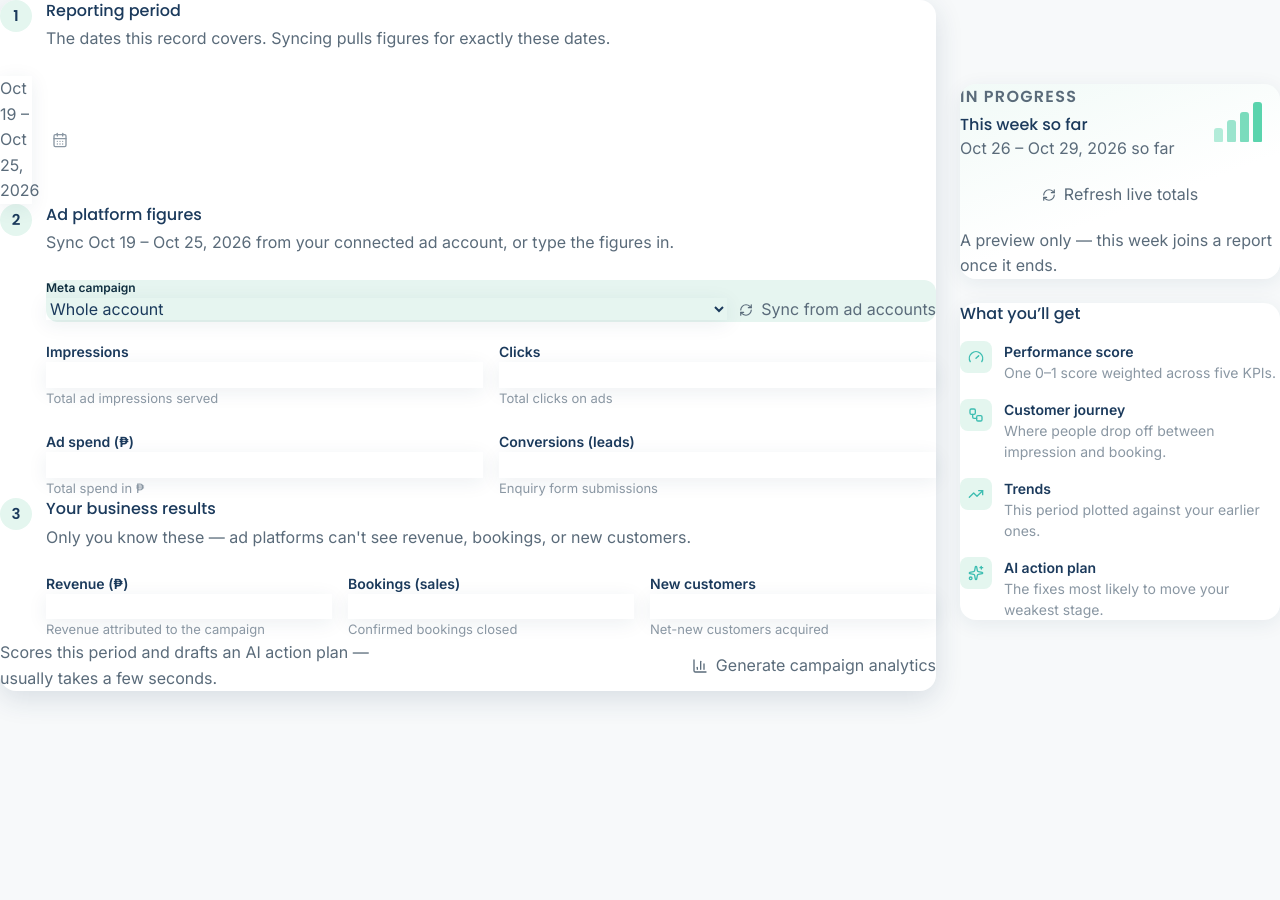
Test: IngestionForm ad sync › drops the synced badges when the period changes after a sync
The image size is (1280, 900).
Click the button "Sync from ad accounts" at point(838, 310), box [739,297,936,322]
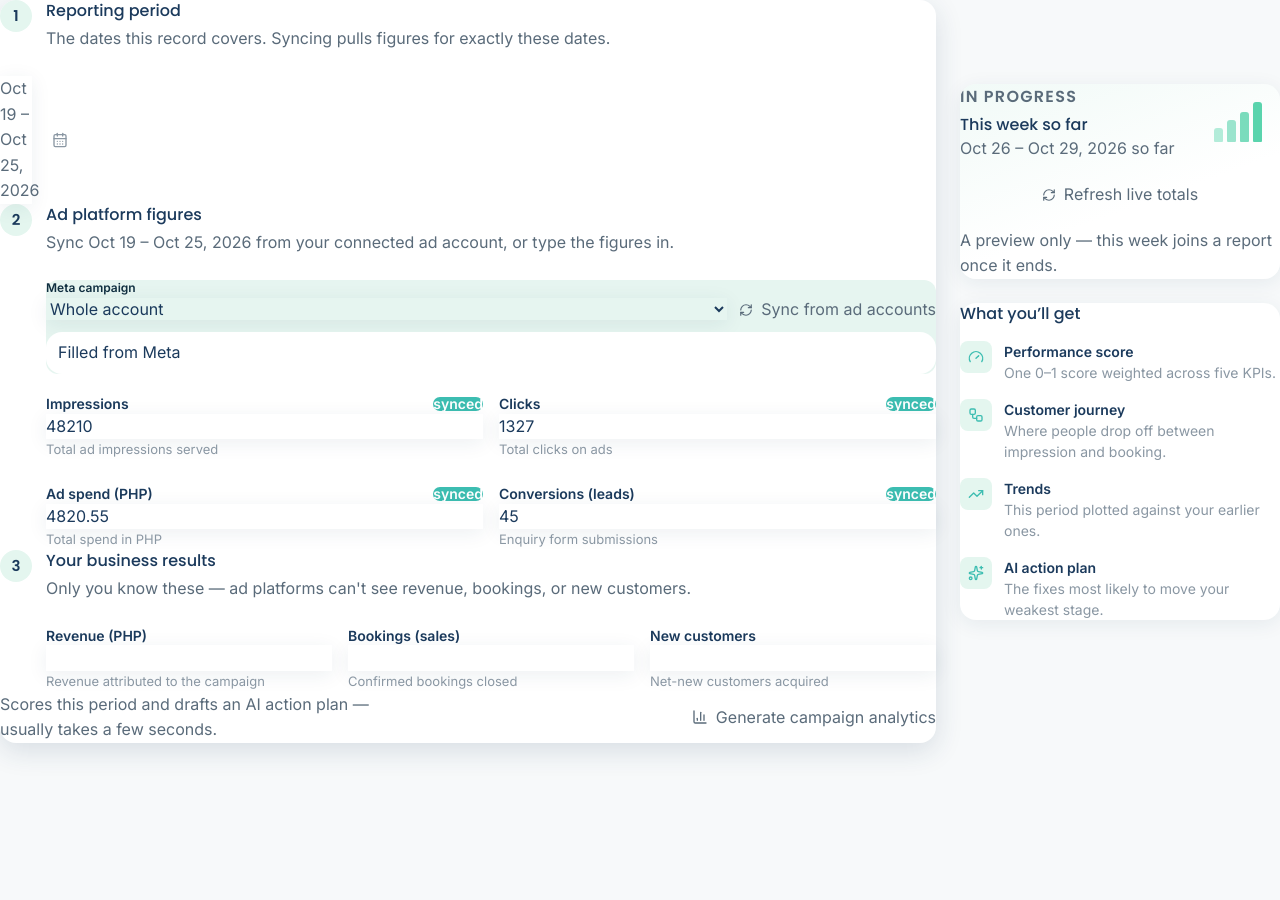
Now the label labelled "Impressions synced Total ad impressions served" is shown, box [46,394,483,460]
Click the button with aria-label "reporting period" at point(16, 140), box [0,76,32,204]
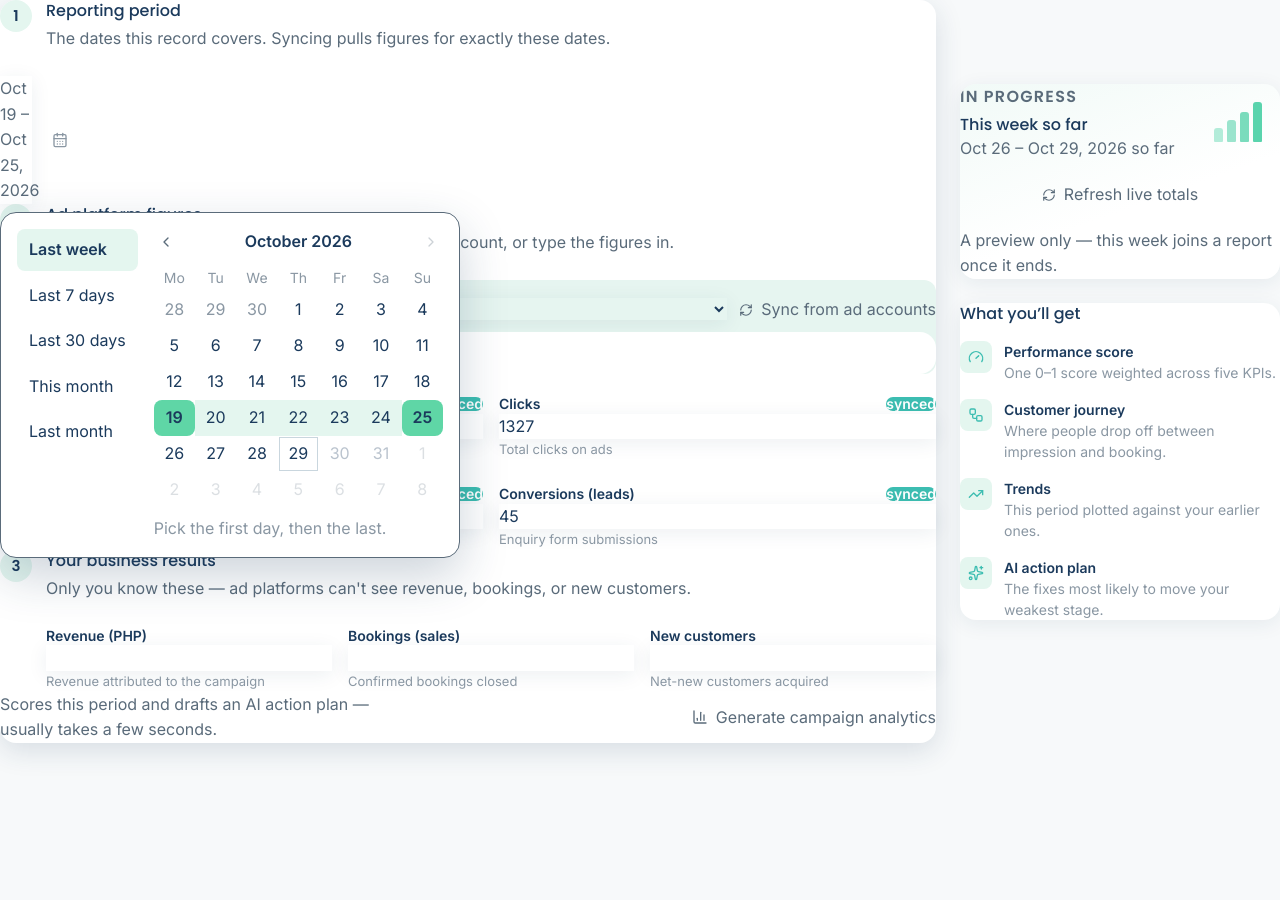
Click the button "Last 30 days" at point(77, 341), box [17,320,138,362]
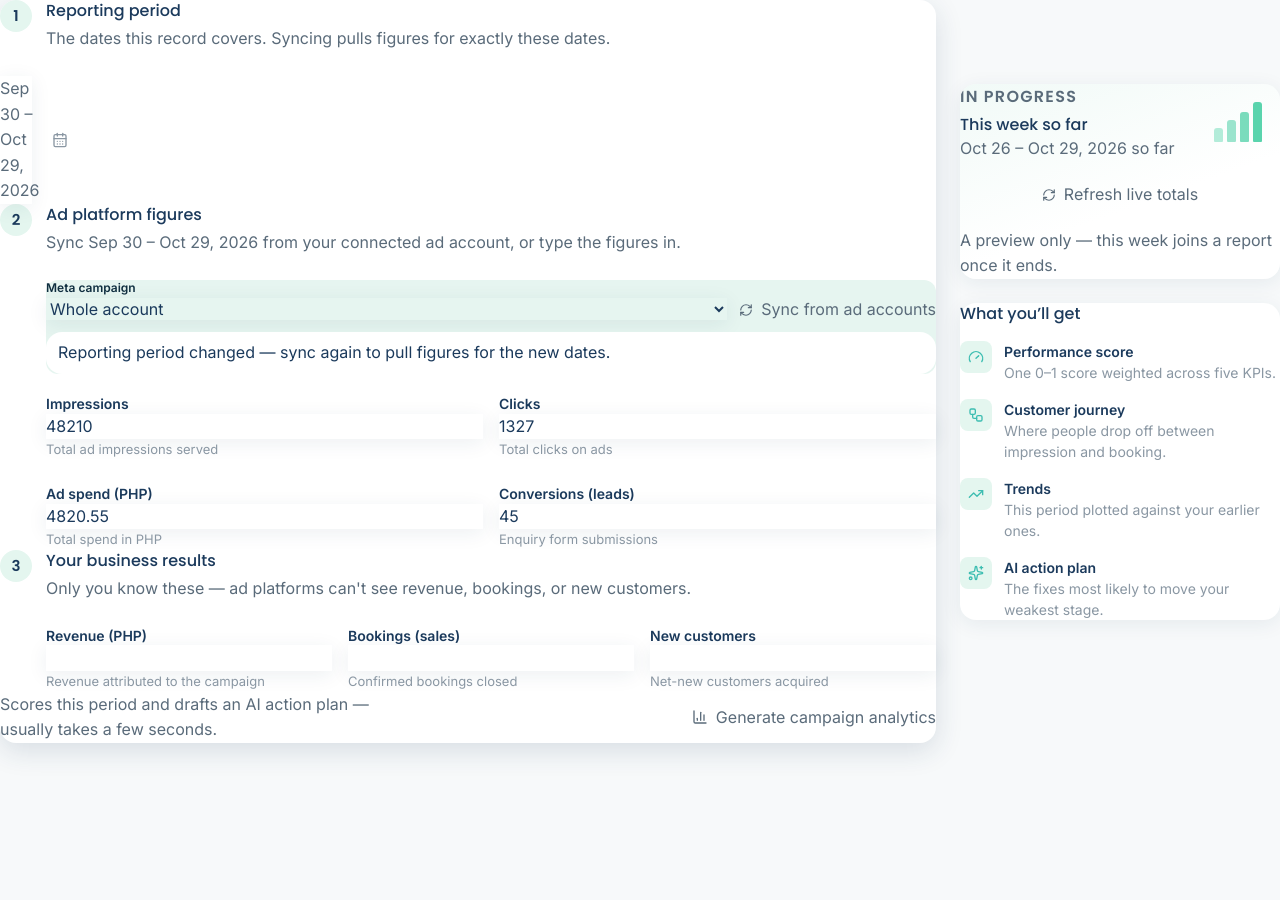
Now the label labelled "Impressions Total ad impressions served" no longer shows "synced", box [46,394,483,460]
Now the text "Reporting period changed — sync again to pull figures for the new dates." is shown, box [46,332,936,374]
